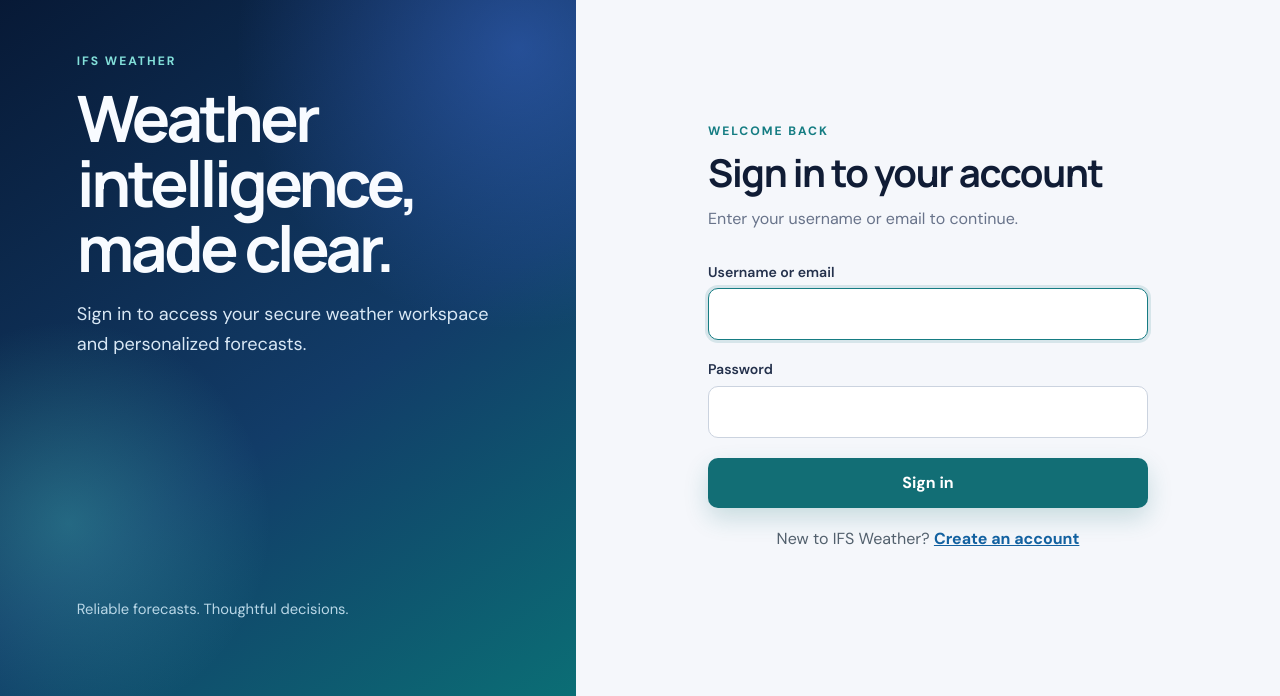
Test case: UserWeatherDashboardPage › renders authenticated current and ordered weekly weather data
Type "test.user" into the field labelled "Username or email" at {"x": 928, "y": 314}, box [708,288,1148,340]
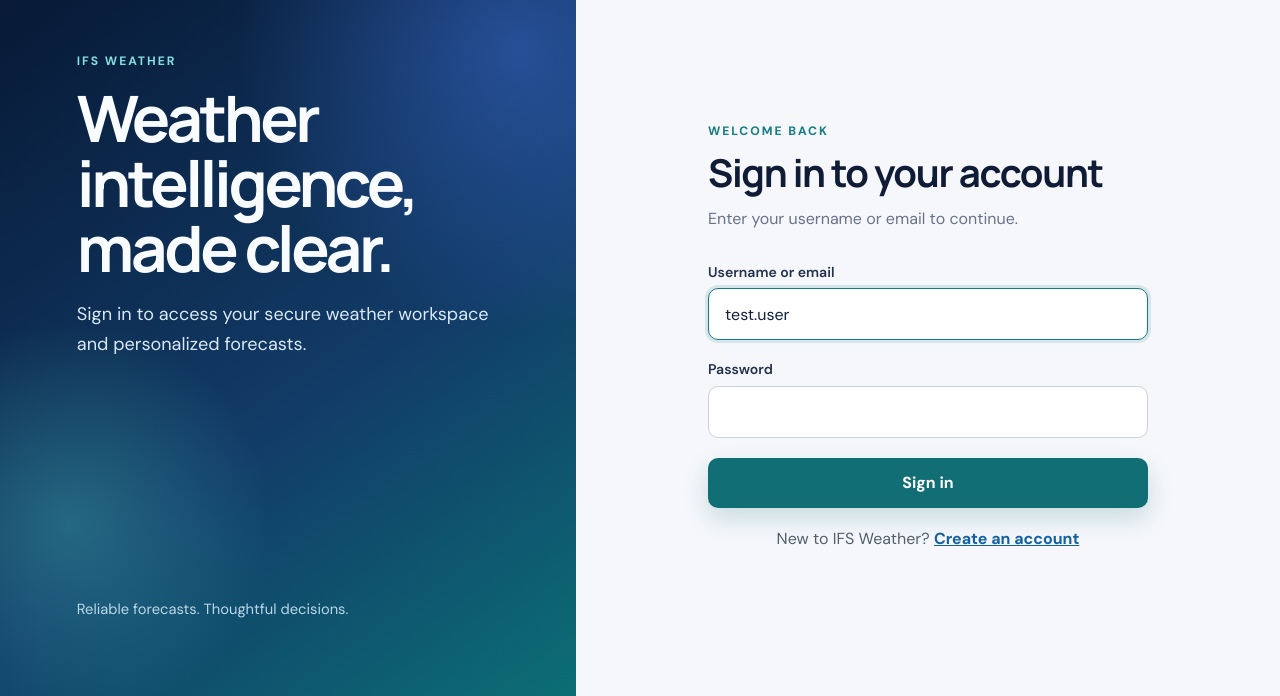
Type "TestPass1" into the password field labelled "Password" at {"x": 928, "y": 412}, box [708,386,1148,438]
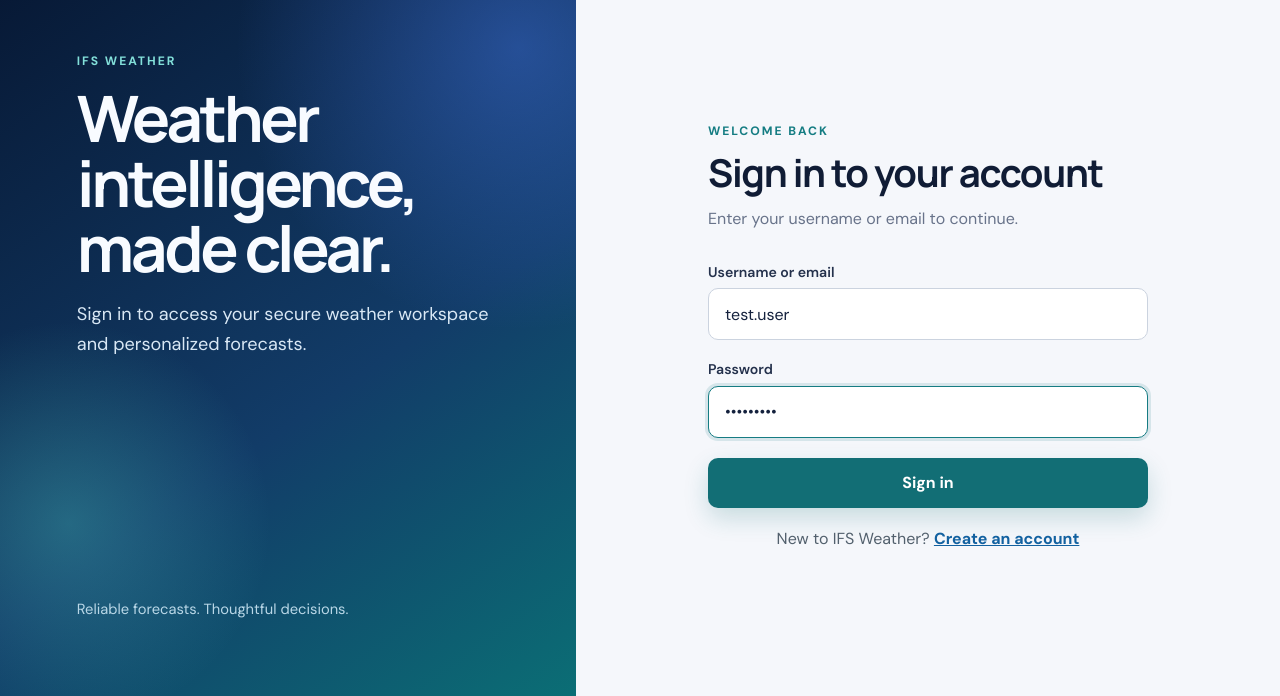
Click the button "Sign in" at {"x": 928, "y": 483}, box [708,458,1148,508]
(page scrolled)
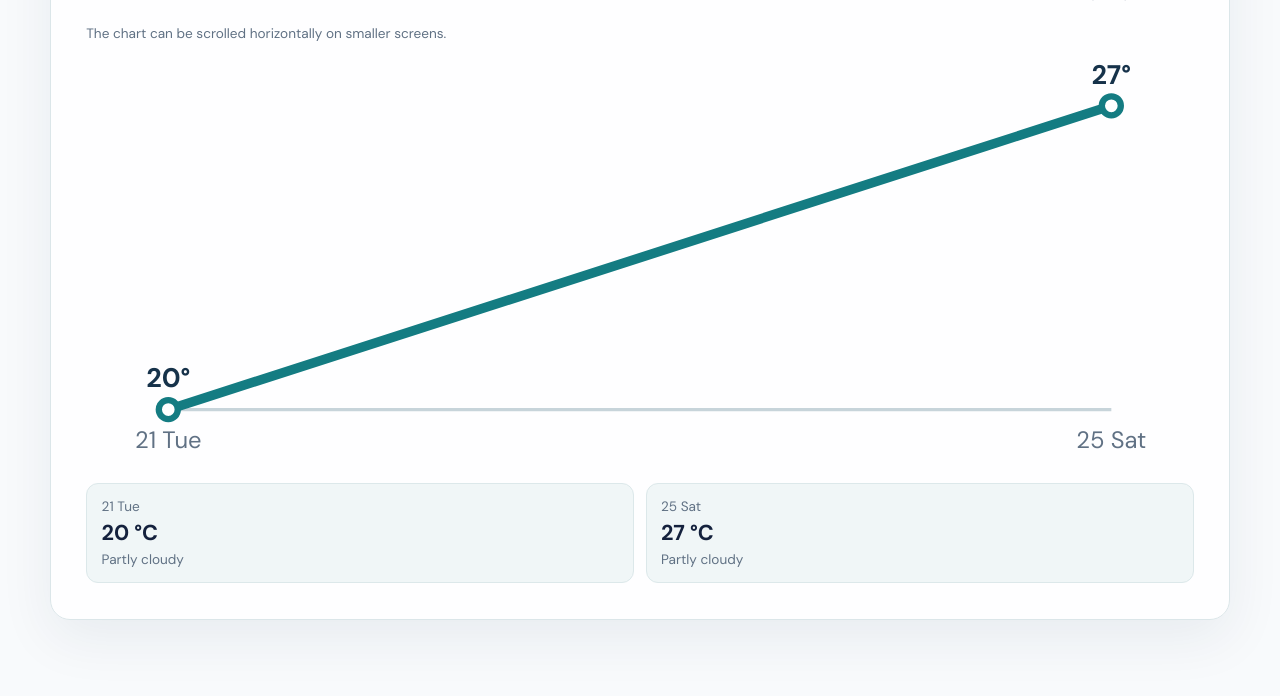
Now the picture named "weekly temperature trend" is shown, box [86,52,1194,463]
Now the list item "21 Tue 20 °C Partly cloudy" is shown, box [86,483,634,583]
Now the list item "25 Sat 27 °C Partly cloudy" is shown, box [646,483,1194,583]
